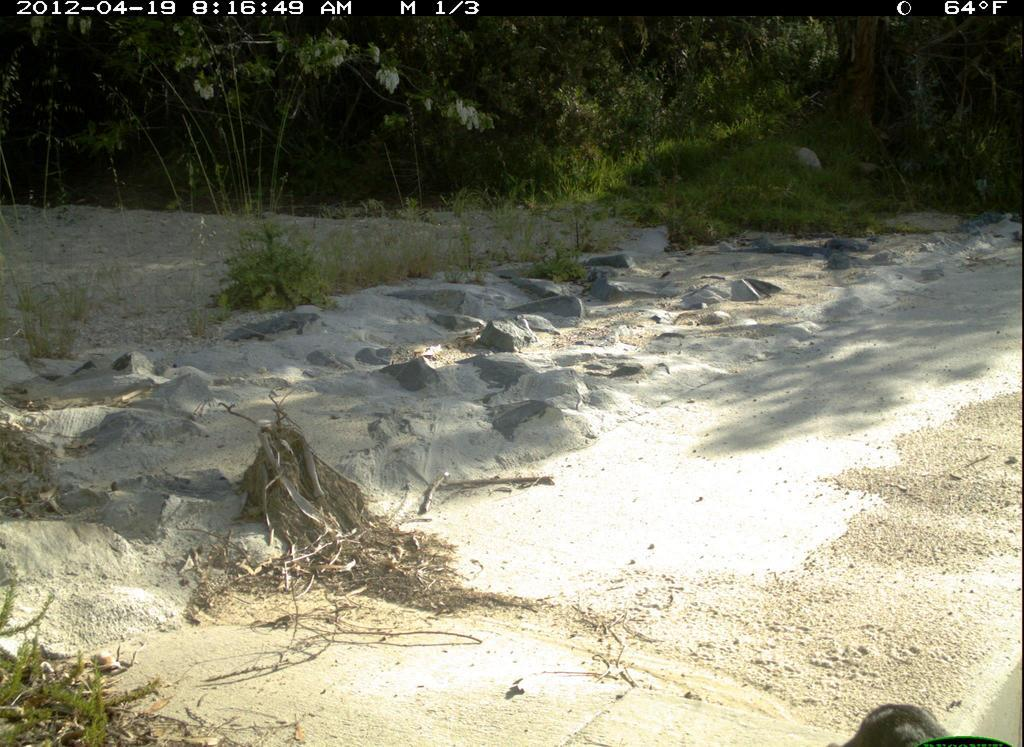cat: (816, 687, 949, 747)
